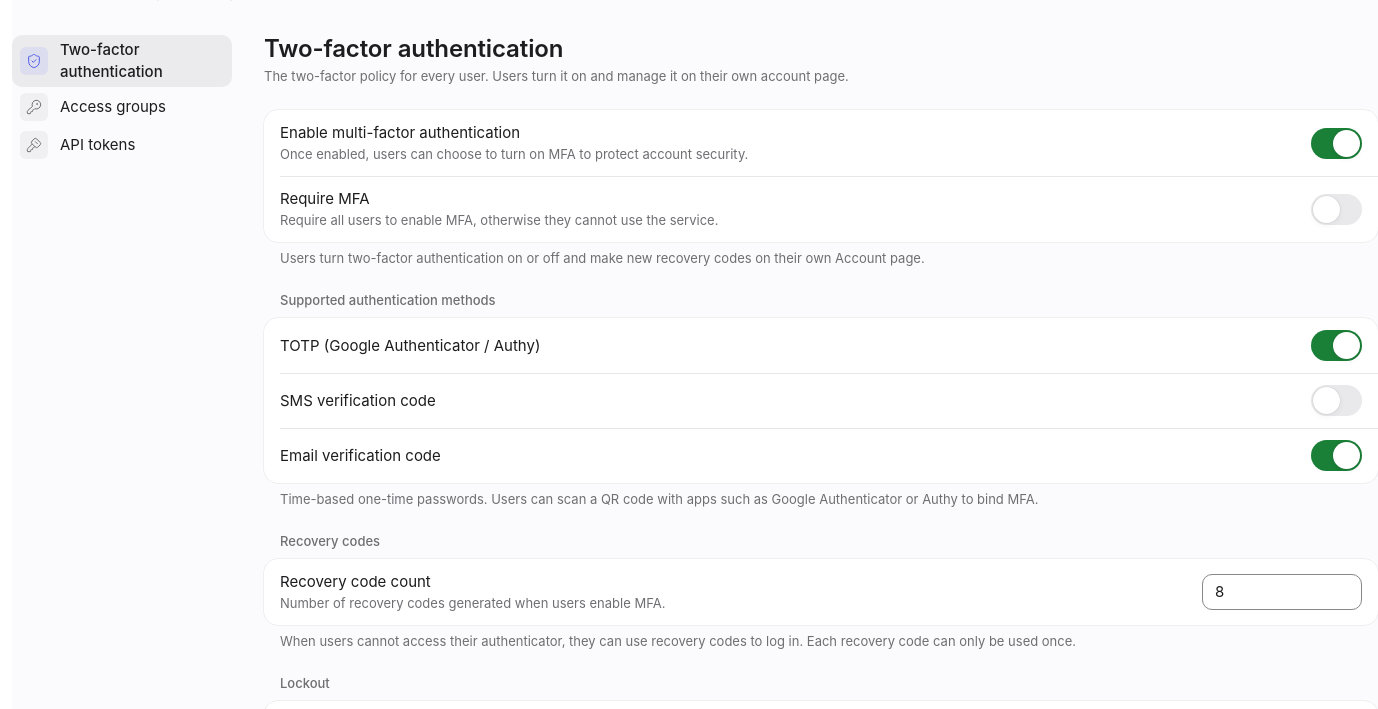
Test case: Admin security page › asks before leaving an edited MFA policy
Click the switch with id "mfa-required" at [1336, 209], box [1311,194,1362,225]
(page scrolled)
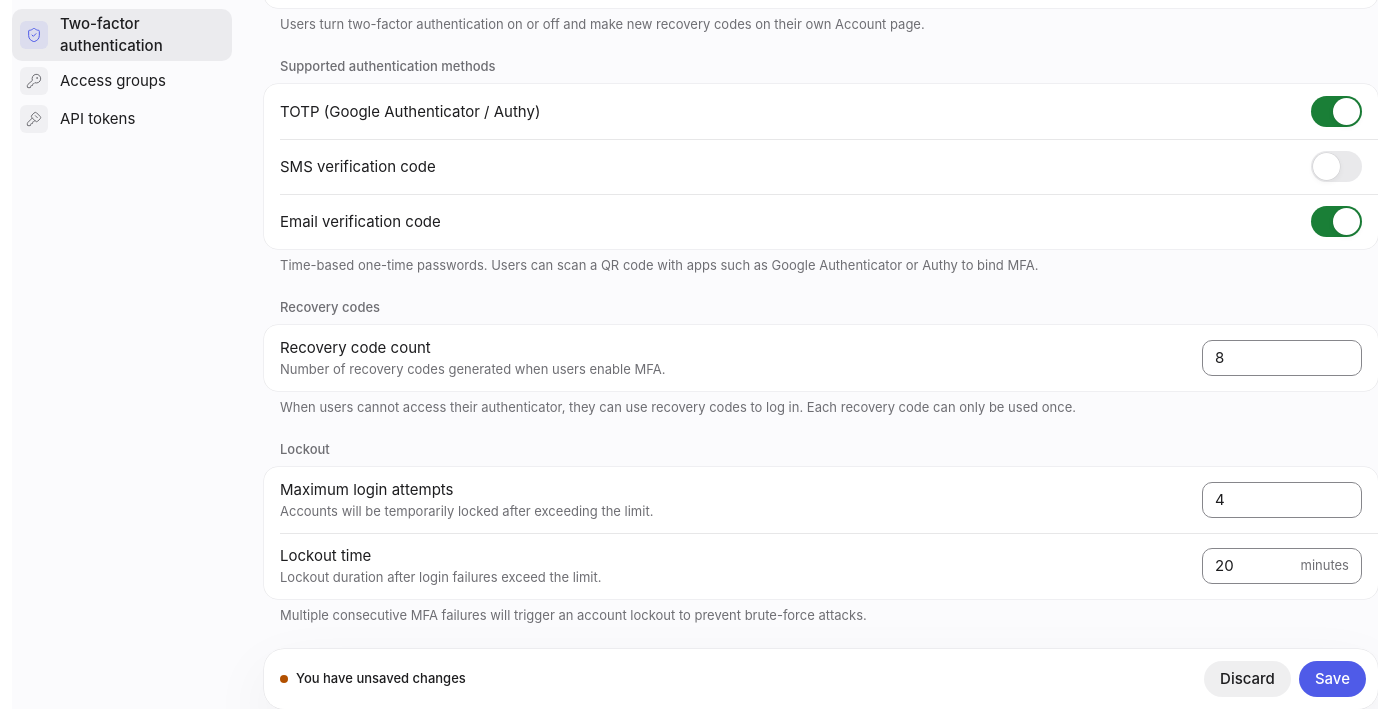
Expected: the element with test id "settings-save-bar" is shown, [264,649,1377,708]
